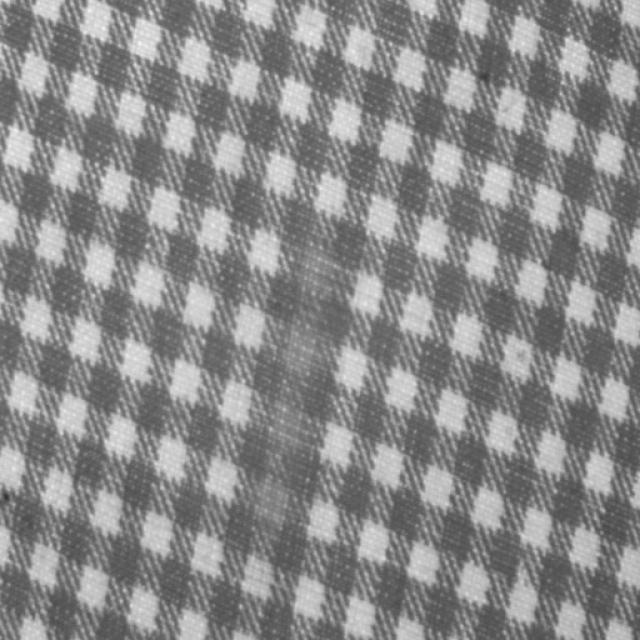Stain-Defect: (252, 254, 341, 530)
